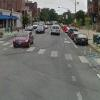Crosswalk: (34, 43, 100, 78)
